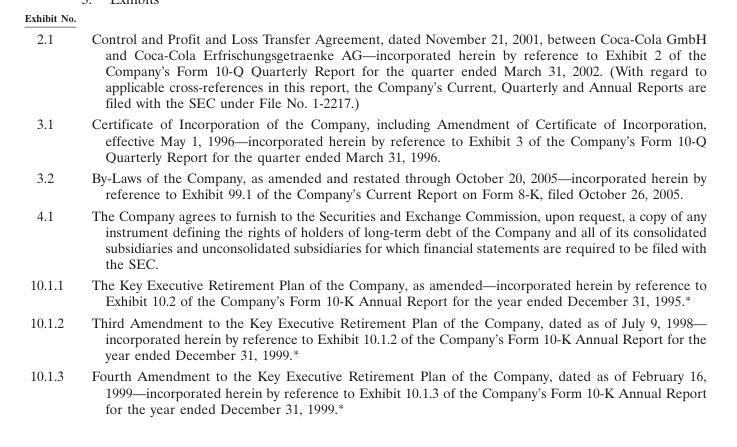table: (29, 29, 705, 416)
table column: (76, 29, 705, 416), (29, 29, 76, 416)
table row: (29, 29, 705, 112), (29, 204, 705, 273), (29, 112, 705, 166), (29, 311, 705, 364), (29, 364, 705, 416), (29, 166, 705, 204), (29, 273, 705, 311)
